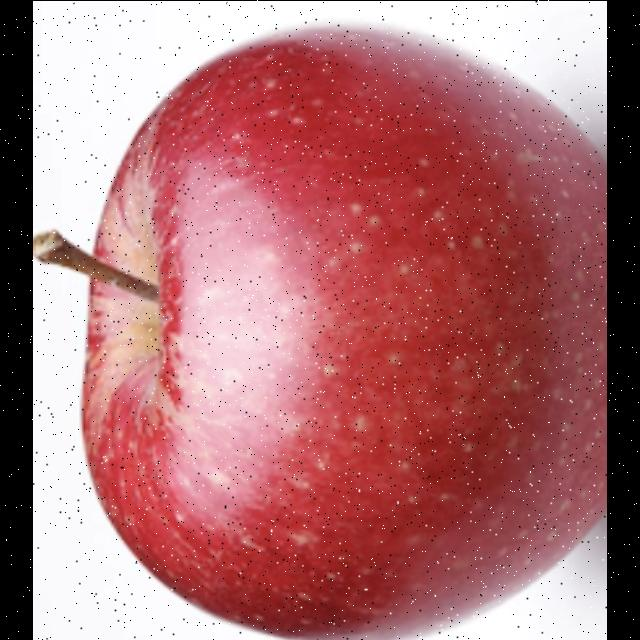Apel Segar: (85, 32, 607, 640)
